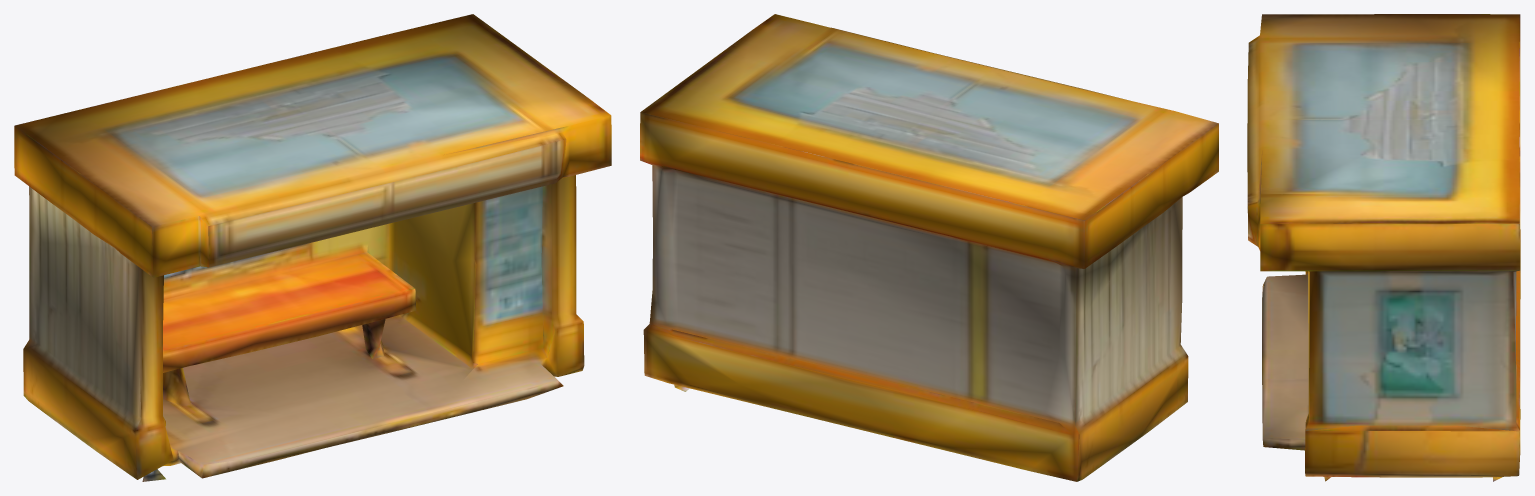
File: bus stand.fbx
3 views of the same model, side by side, from view 1: azimuth 30°, elevation 25°; view 2: azimuth 150°, elevation 25°; view 3: azimuth 270°, elevation 25° (orthographic). The views are drawn at different scales.
Visible parts, largest first — view 1: Mesh_0.001; view 2: Mesh_0.001; view 3: Mesh_0.001.
Part boxes in pixels (<box>): Mesh_0.001: <box>14,14,611,481</box>; Mesh_0.001: <box>640,14,1218,481</box>; Mesh_0.001: <box>1247,14,1520,481</box>.
Bounding box in the file's own units: 260 × 158 × 143.
